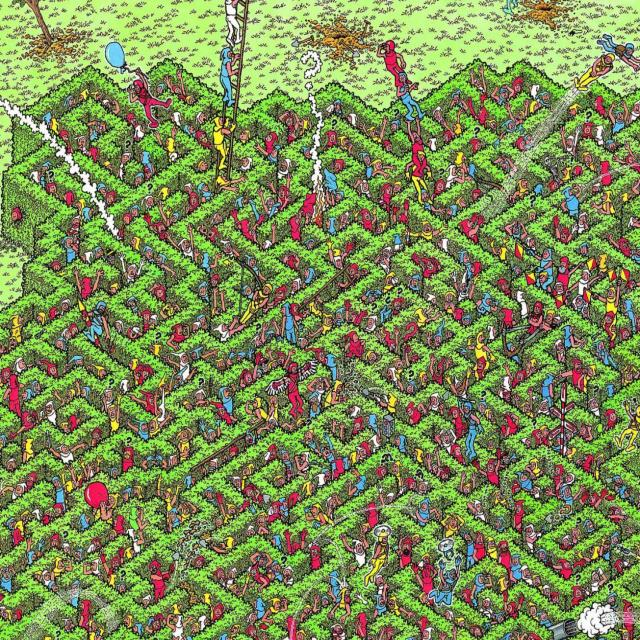waldo: (260, 357, 269, 373)
